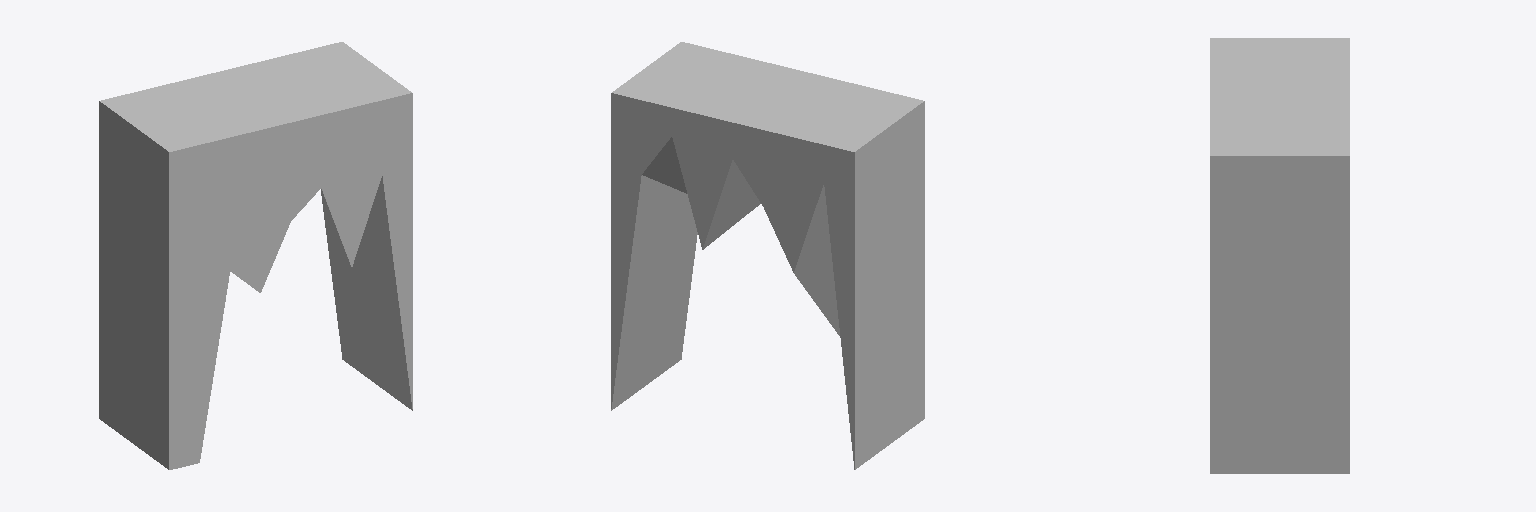
The model's file is BrokenDoor.obj.
The picture shows the model from 3 angles: view 1: azimuth 30°, elevation 25°; view 2: azimuth 150°, elevation 25°; view 3: azimuth 270°, elevation 25°; orthographic projection.
Visible parts, largest first — view 1: BrokenDoor; view 2: BrokenDoor; view 3: BrokenDoor.
Boxes of the visible parts, x1=… form: BrokenDoor: x1=99, y1=42, x2=412, y2=469; BrokenDoor: x1=611, y1=42, x2=924, y2=469; BrokenDoor: x1=1210, y1=38, x2=1349, y2=473.
Size of the model in its own units: 4 by 5 by 2.